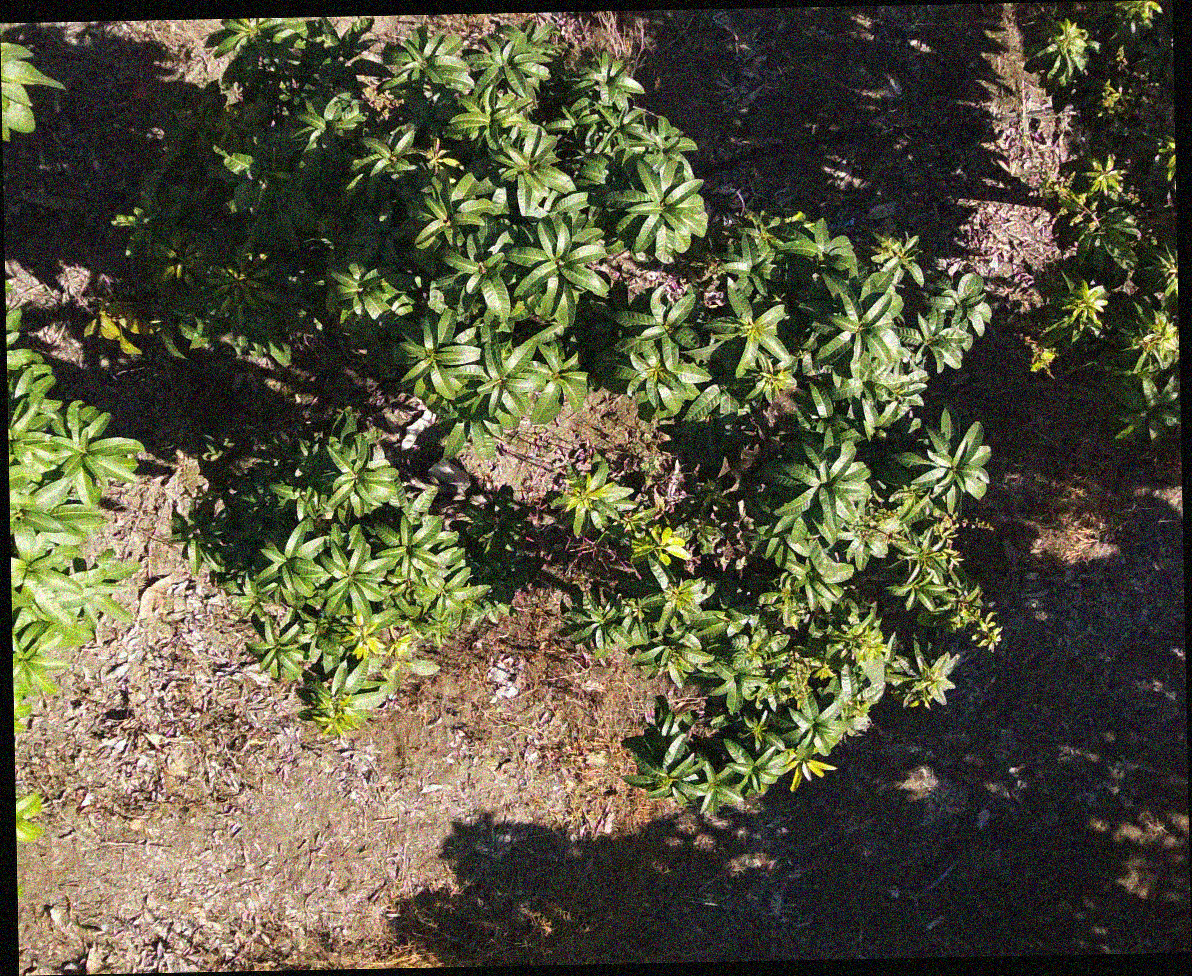flowers: (860, 488, 999, 648), (819, 595, 955, 707), (783, 646, 834, 706), (361, 84, 403, 121), (1025, 336, 1057, 378), (221, 84, 243, 110)
